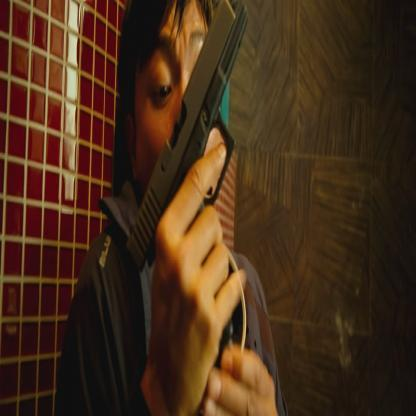gun: (127, 4, 278, 375)
